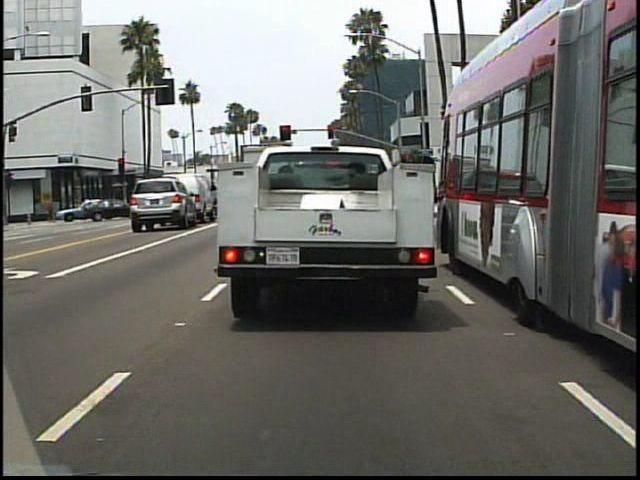person: (45, 197, 58, 226)
